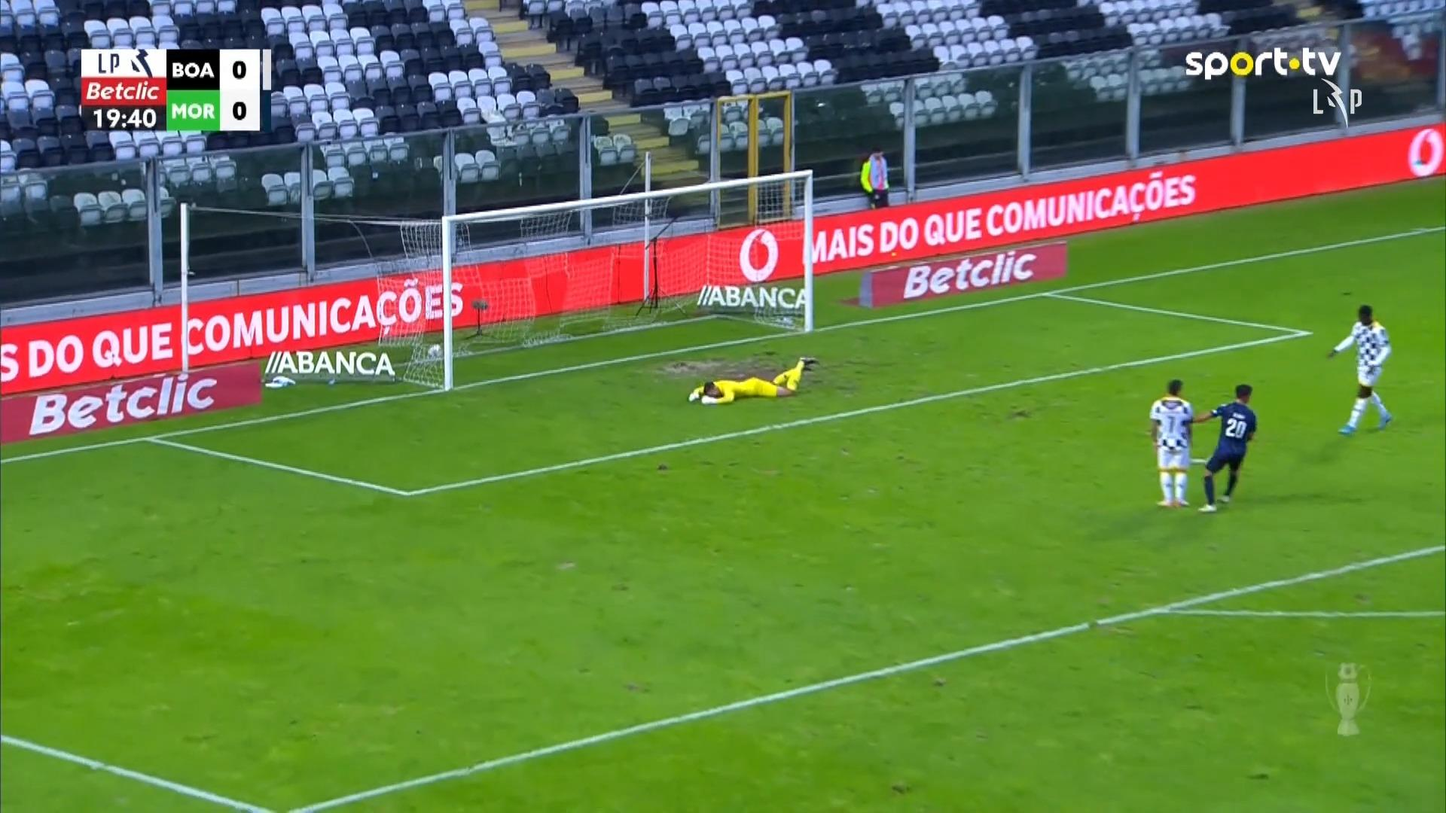ball: (426, 343, 441, 358)
goalkeeper: (687, 355, 819, 405)
player: (1147, 377, 1219, 507), (1326, 303, 1393, 435), (1194, 382, 1257, 512)
